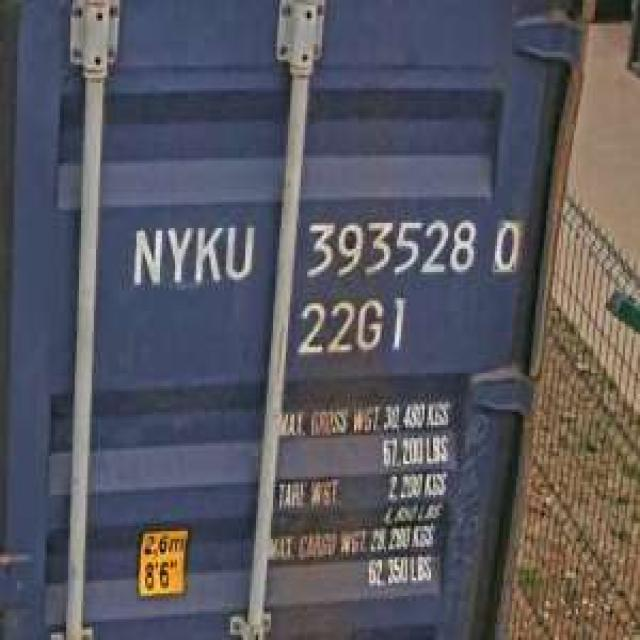dv: (486, 210, 526, 283)
owner: (124, 215, 258, 295)
serial: (299, 210, 478, 282)
size: (292, 290, 412, 363)
